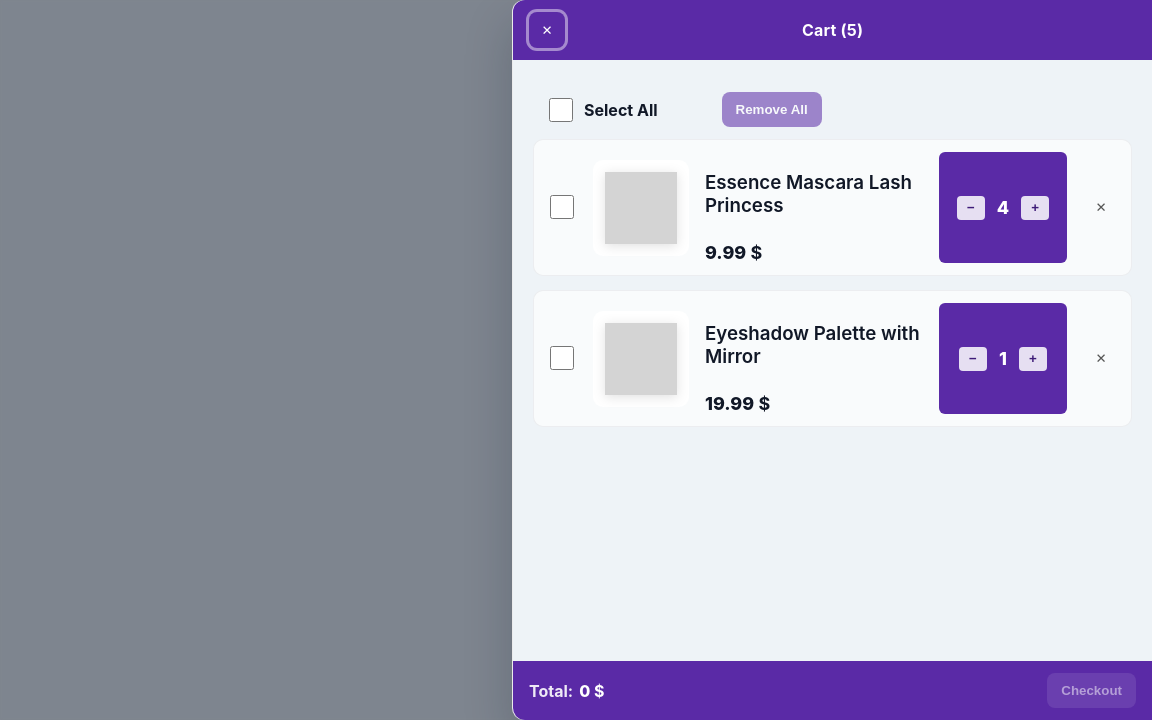
Scenario: user interact with cart › all checkbox must be checked when select all checkbox is checked
Click the checkbox named "select all items": (561, 110) [549,98,573,122]
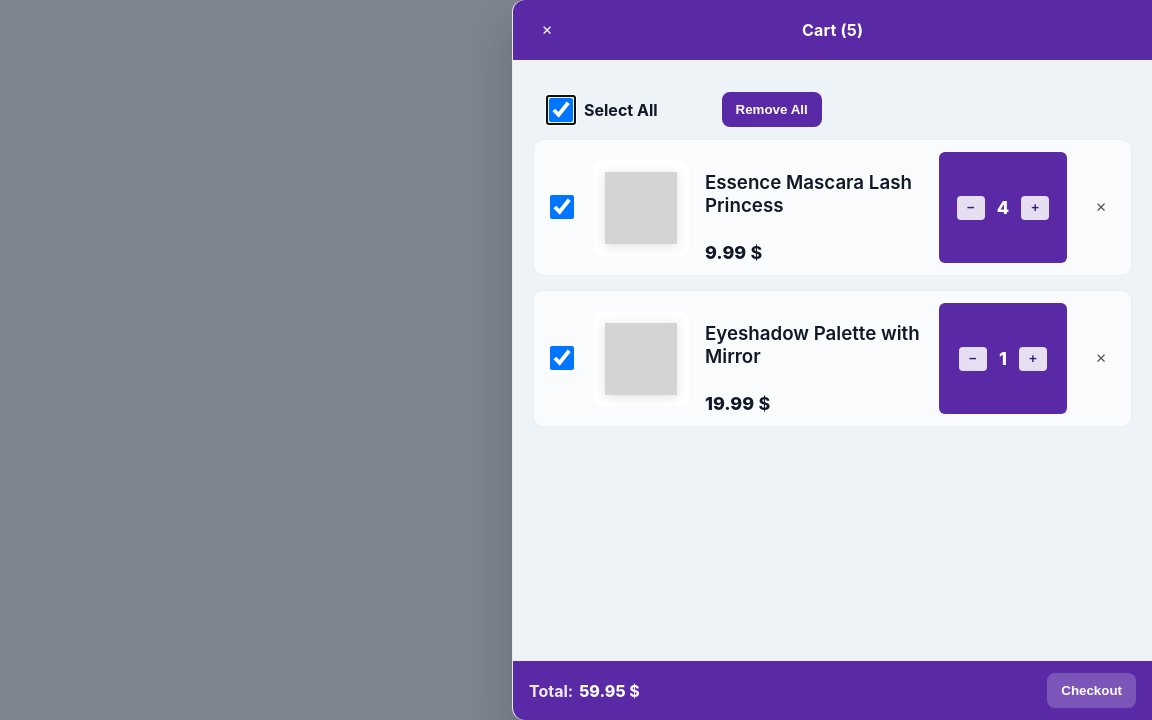
expect the checkbox named "select item" below "Essence Mascara Lash Princess" is checked: met, box [550,195,574,219]
expect the checkbox named "select item" below "Eyeshadow Palette with Mirror" is checked: met, box [550,346,574,370]
